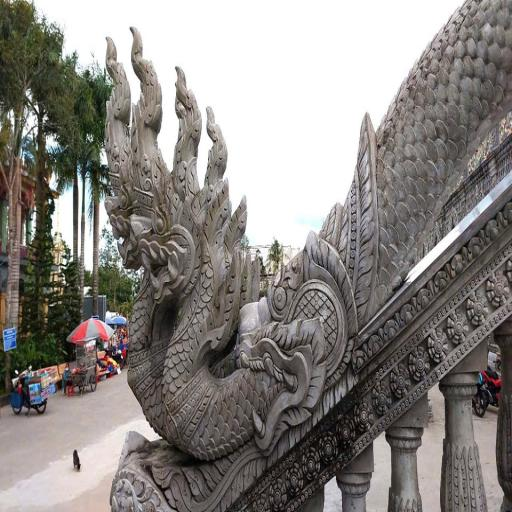hoa: (428, 327, 450, 365), (390, 360, 410, 400), (335, 413, 355, 452), (488, 272, 510, 307), (355, 396, 374, 436), (467, 294, 488, 330), (303, 444, 321, 484), (410, 345, 430, 381), (448, 309, 468, 345), (373, 380, 392, 417), (287, 458, 304, 497), (320, 432, 339, 464), (270, 476, 286, 510), (253, 492, 269, 512)
la: (484, 216, 502, 246), (382, 315, 400, 344), (466, 234, 484, 263), (416, 287, 434, 313), (450, 250, 466, 277), (434, 269, 450, 295), (399, 301, 415, 326), (367, 334, 382, 358), (352, 346, 365, 372), (501, 200, 511, 231)
ran: (132, 48, 352, 451), (103, 59, 162, 447)
